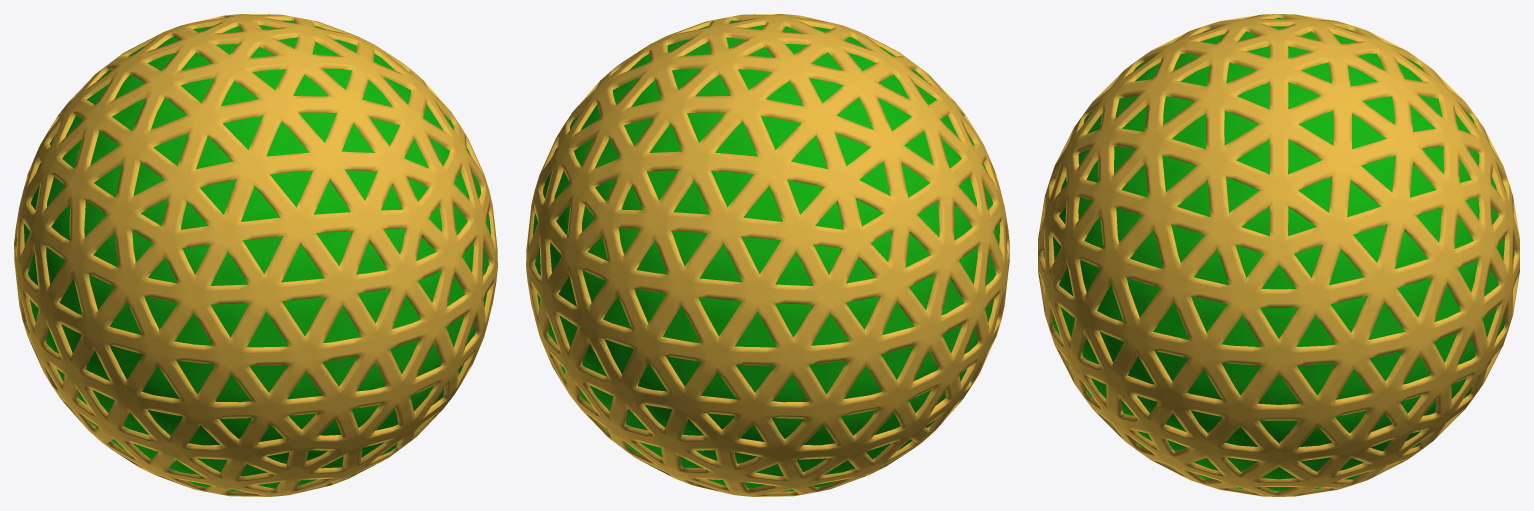
Rendered from sphere_gold_7.glb.
3 views of the same model, side by side, from view 1: azimuth 30°, elevation 25°; view 2: azimuth 150°, elevation 25°; view 3: azimuth 270°, elevation 25° (orthographic).
Parts seen in each view (by area): view 1: Icosphere; view 2: Icosphere; view 3: Icosphere.
Boxes of the visible parts, x1,y1,x2,y2 form: Icosphere: (14,14,497,496); Icosphere: (526,14,1009,496); Icosphere: (1038,14,1519,496).
Size of the model in its own units: 2.27 by 2.27 by 2.27.
